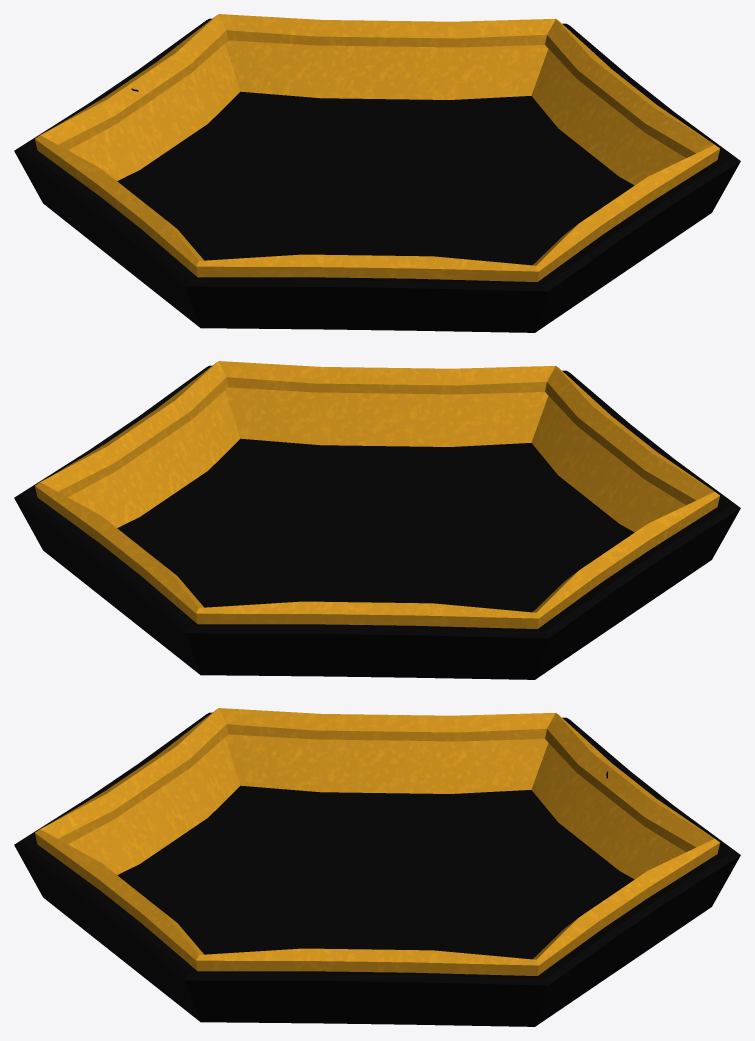
The model's file is CityAsset.fbx.
3 views of the same model, one above another, from view 1: azimuth 30°, elevation 25°; view 2: azimuth 150°, elevation 25°; view 3: azimuth 270°, elevation 25° (orthographic).
Parts seen in each view (by area): view 1: Case; view 2: Case; view 3: Case.
Boxes of the visible parts, x1,y1,x2,y2 form: Case: (14,14,740,332); Case: (14,361,740,679); Case: (14,708,740,1026).
Size of the model in its own units: 2677 by 330 by 3032.
2 materials, 1 textured.
